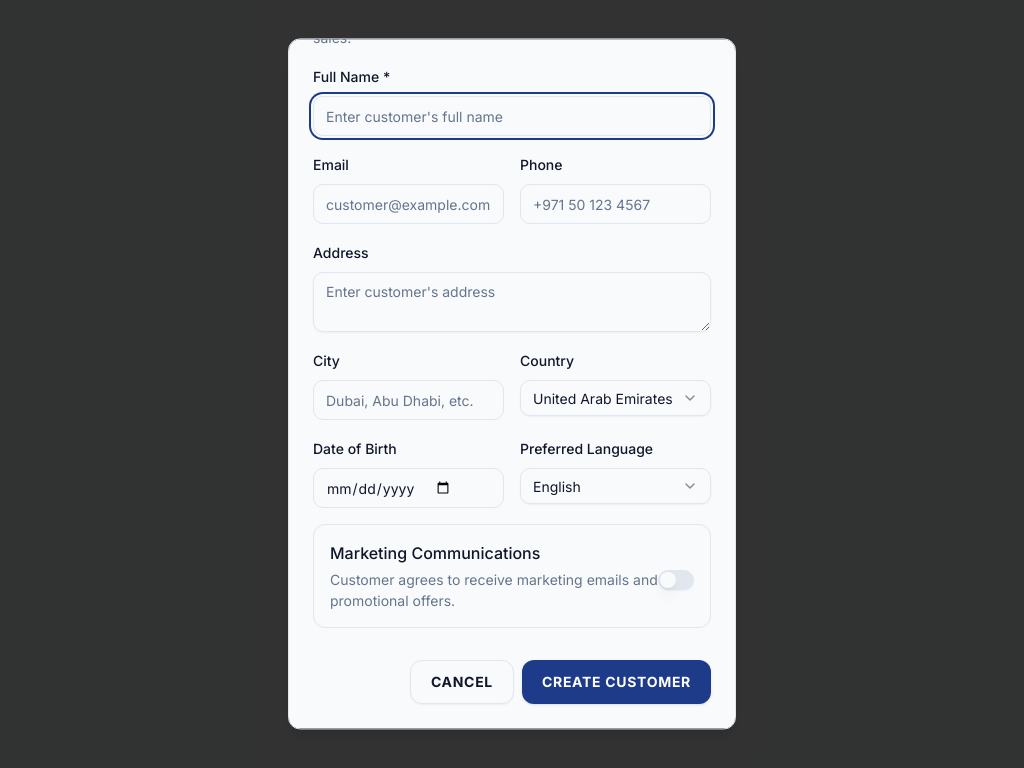
Test case: CustomerForm › Form Validation › should validate required full name field
This screenshot has width=1024, height=768.
(page scrolled)
// Try to submit without filling required fields
Step 1. Click the button "Create Customer" → click(616, 682), box [522,660,711,704]
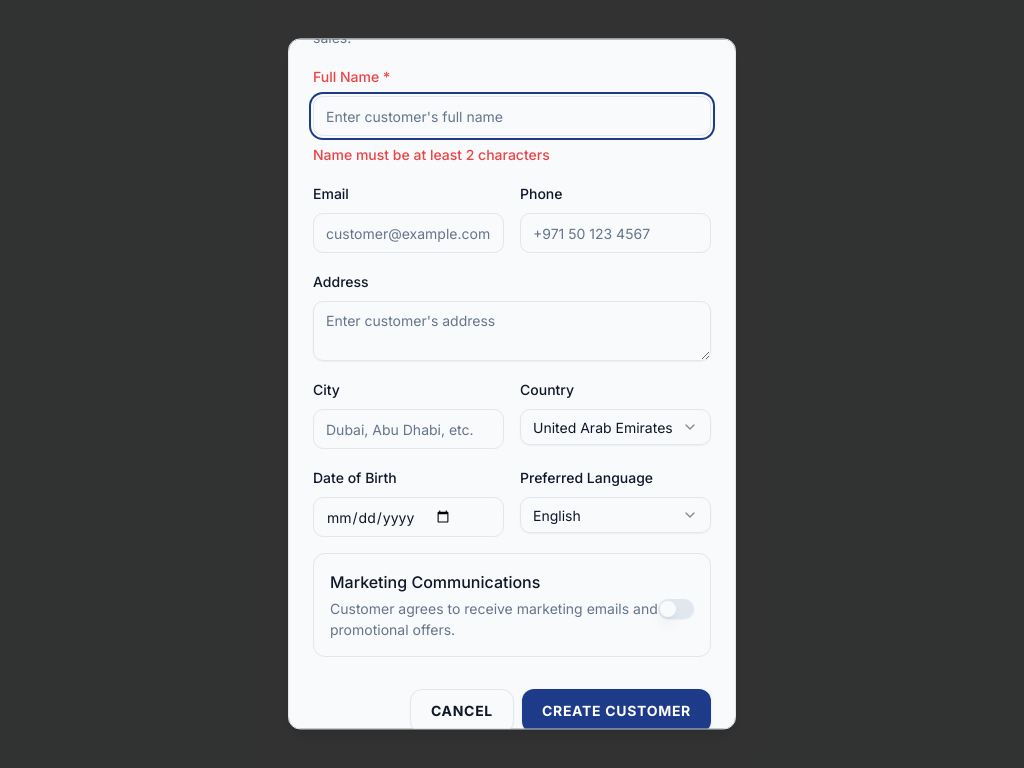
Check: the text "Name must be at least 2 characters" is shown, box [313,146,550,163]
